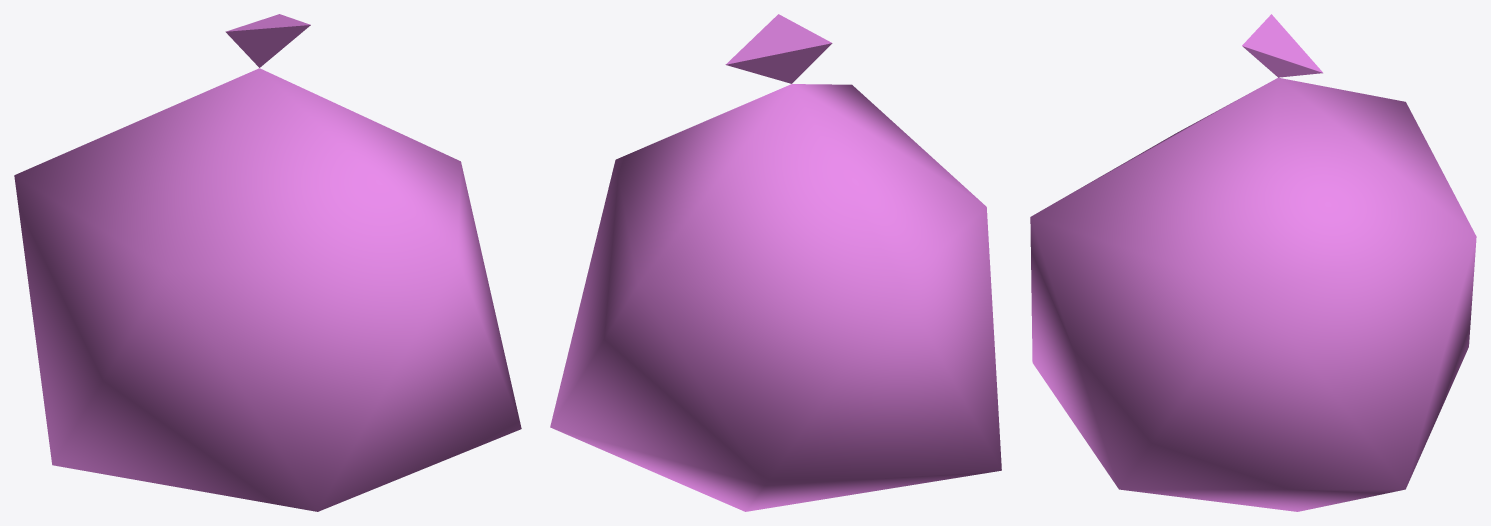
File: Trash.fbx
3 views of the same model, side by side, from view 1: azimuth 30°, elevation 25°; view 2: azimuth 150°, elevation 25°; view 3: azimuth 270°, elevation 25° (orthographic). The views are drawn at different scales.
Visible parts, largest first — view 1: Icosphere; view 2: Icosphere; view 3: Icosphere.
Part boxes in pixels (box(x1,y1,x2,y2)): Icosphere: box(14, 14, 521, 511); Icosphere: box(550, 14, 1001, 511); Icosphere: box(1030, 14, 1476, 511).
Bounding box in the file's own units: 103 × 119 × 104.
